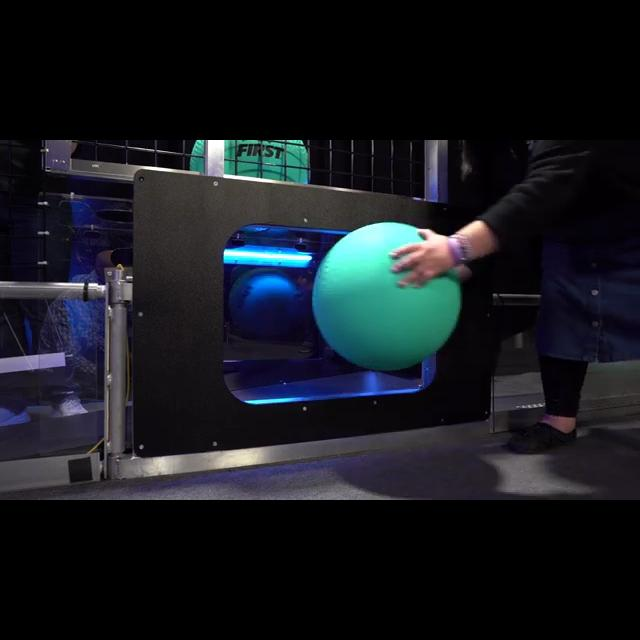ALGAE: (310, 220, 462, 372), (190, 140, 310, 184)
